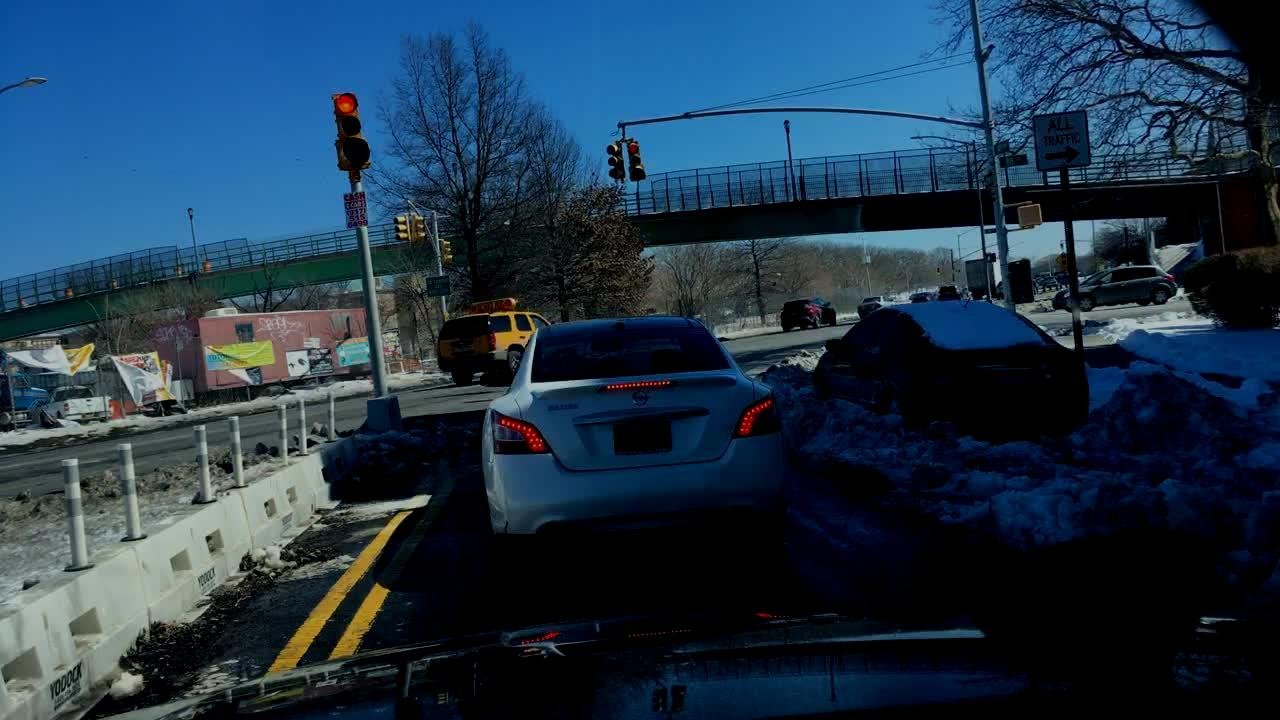Honda: (1002, 346, 1024, 369)
Nissan: (626, 380, 655, 411)
